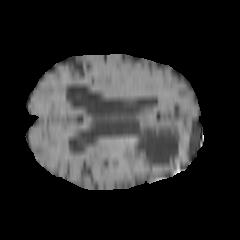glioma: (119, 95, 189, 174)
